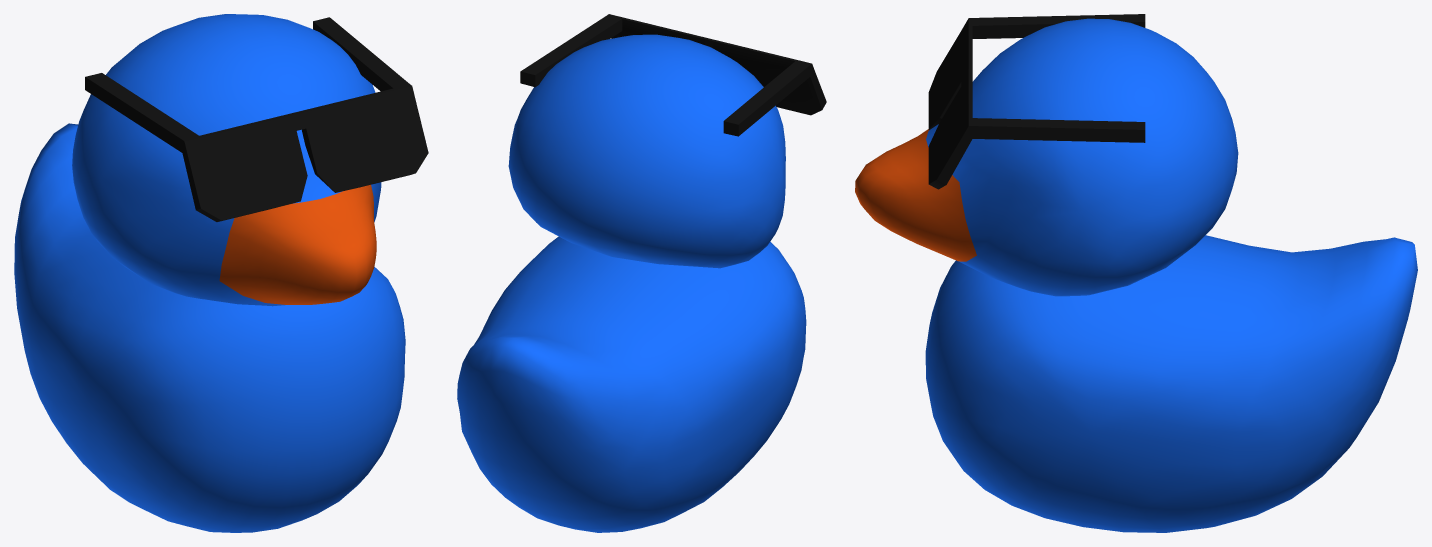
File: Player2.FBX
3 renders of one model, left to right at view 1: azimuth 30°, elevation 25°; view 2: azimuth 150°, elevation 25°; view 3: azimuth 270°, elevation 25°, orthographic. The views are drawn at different scales.
Visible parts, largest first — view 1: Player2; view 2: Player2; view 3: Player2.
Part boxes in pixels (x1=…): Player2: x1=14, y1=14, x2=428, y2=532; Player2: x1=457, y1=14, x2=826, y2=532; Player2: x1=855, y1=14, x2=1417, y2=532.
Bounding box in the file's own units: 16.99 × 29.07 × 27.44.
